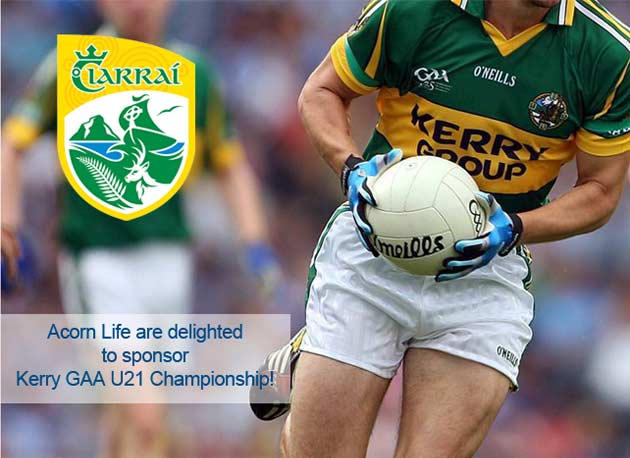ball: (360, 149, 500, 283)
player: (310, 11, 581, 437)
